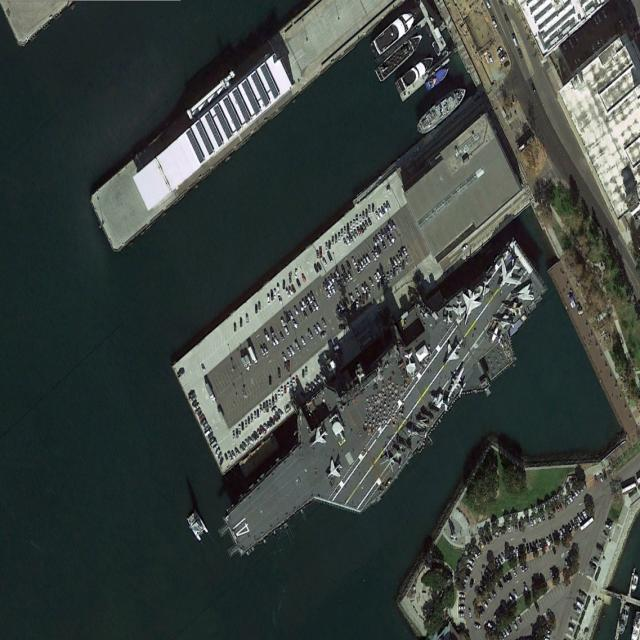Aircraft Carrier: (200, 215, 567, 613)
Other Ship: (185, 506, 209, 543), (431, 41, 442, 58)
Other Warship: (414, 81, 469, 138)
Yacht: (370, 2, 423, 59), (375, 29, 426, 83), (394, 52, 436, 96)
